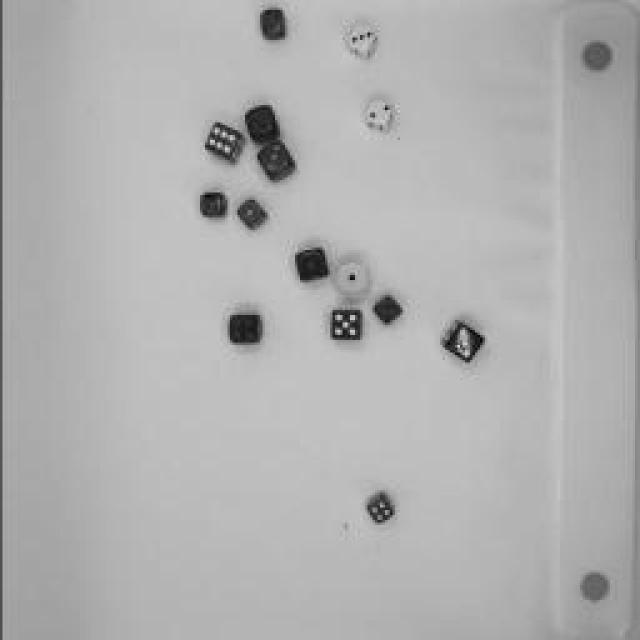dice_1: (291, 244, 329, 284), (335, 258, 370, 298), (234, 198, 271, 232)
dice_2: (258, 8, 292, 42), (364, 100, 396, 130)
dice_3: (442, 318, 488, 368), (256, 144, 294, 184), (344, 24, 376, 61)
dice_4: (246, 101, 279, 144), (228, 312, 264, 348), (196, 190, 226, 220), (368, 490, 392, 525)
dice_5: (371, 292, 404, 328), (330, 308, 362, 340)
dice_6: (201, 128, 241, 160)
